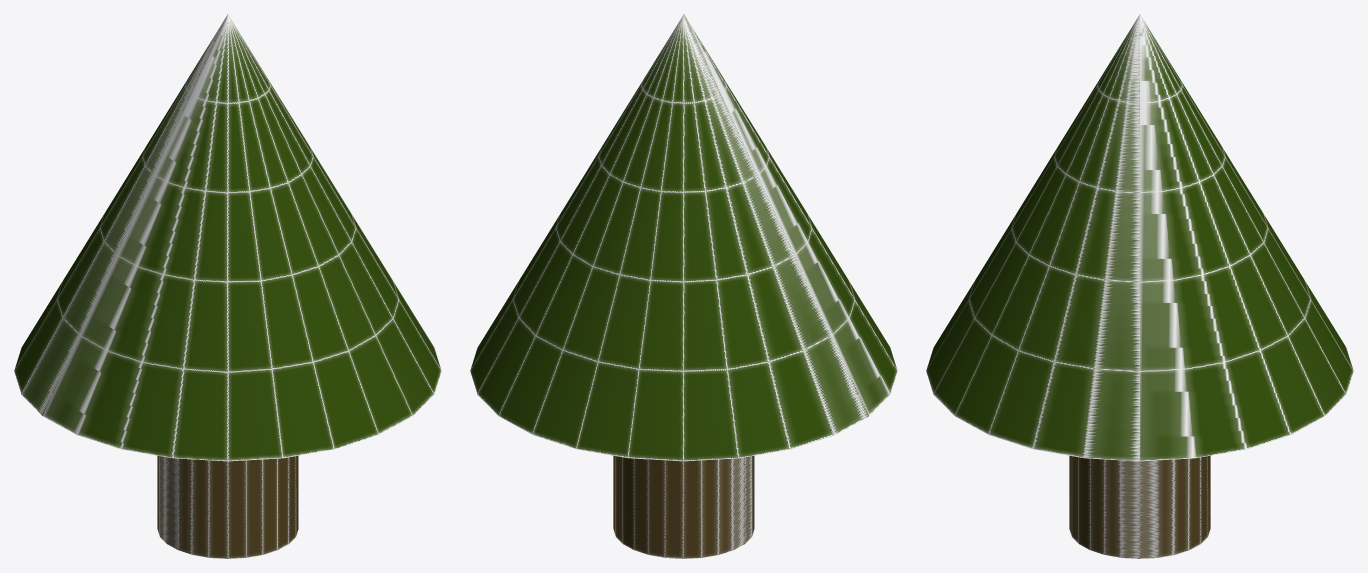
File: treeMesh.FBX
The picture shows the model from 3 angles, left to right: view 1: azimuth 30°, elevation 25°; view 2: azimuth 150°, elevation 25°; view 3: azimuth 270°, elevation 25°; orthographic projection.
Visible parts, largest first — view 1: Tree; view 2: Tree; view 3: Tree.
Part boxes in pixels (<box>): Tree: <box>14,14,441,558</box>; Tree: <box>470,14,897,558</box>; Tree: <box>926,14,1353,558</box>.
Bounding box in the file's own units: 12.45 × 16.55 × 12.45.
1 material, 1 textured.
